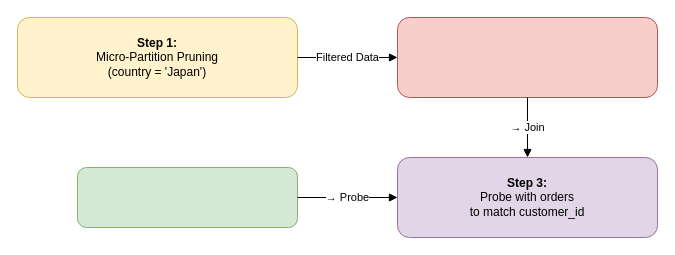
The diagram is 675 pixels wide and 255 high, and some of its shapes have lost their labels. The centre of each missing label's shape, as x and y in pixels:
"orders Fact Table" belongs at pixel 187 197.
"Step 2: Build Hash Table with filtered customers" belongs at pixel 527 57.
